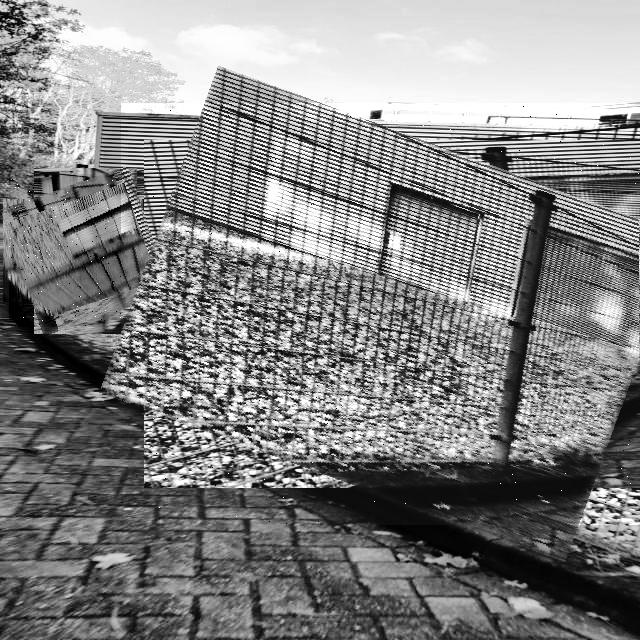fences: (121, 103, 640, 525), (9, 175, 162, 327)
